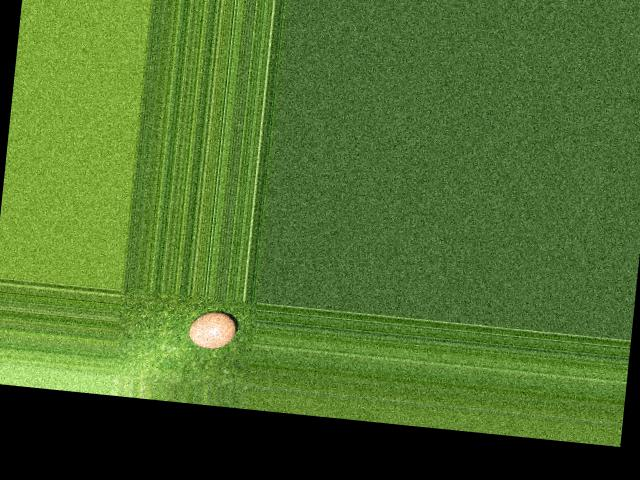egg: (186, 308, 237, 350)
